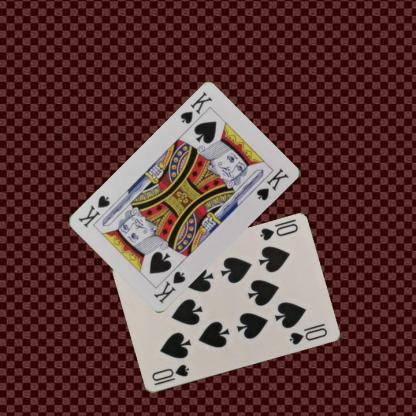10s: (149, 362, 191, 387), (257, 221, 299, 242)
Ks: (150, 269, 187, 305), (177, 90, 214, 126)
